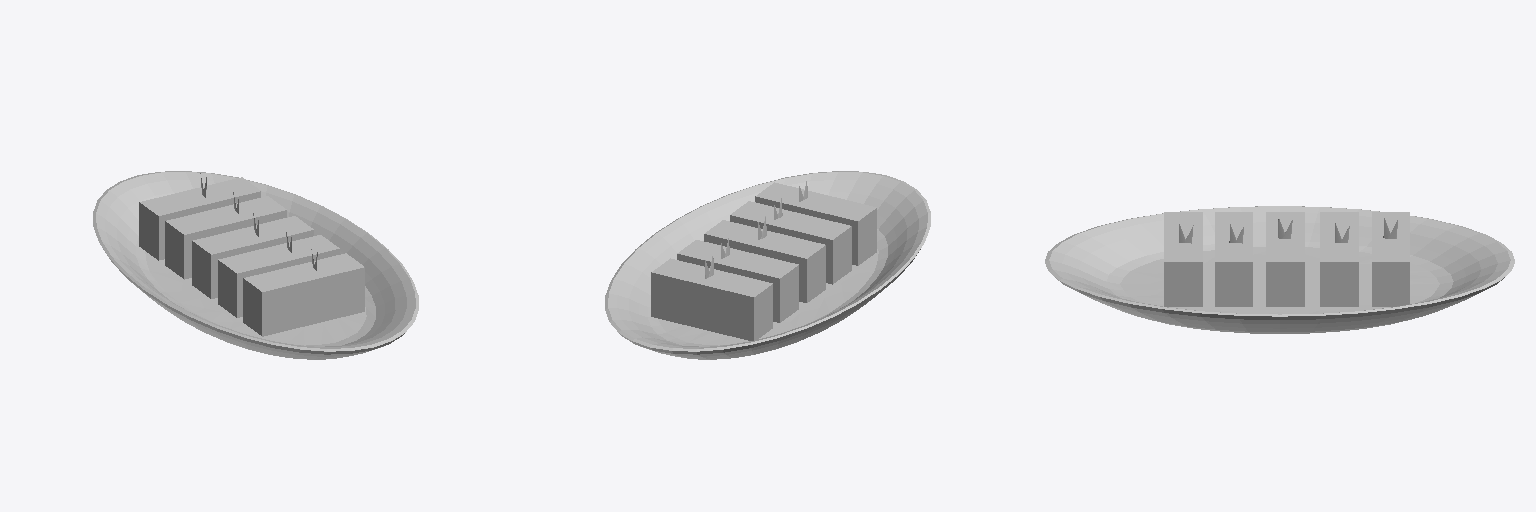
Rendered from kue karitsolo.obj.
The picture shows the model from 3 angles: view 1: azimuth 30°, elevation 25°; view 2: azimuth 150°, elevation 25°; view 3: azimuth 270°, elevation 25°; orthographic projection.
Visible parts, largest first — view 1: Cylinder, Cube.004, Cube.001, Cube.002, Cube, Cube.003; view 2: Cylinder, Cube, Cube.002, Cube.003, Cube.001, Cube.004; view 3: Cylinder, Cube.004, Cube.001, Cube.002, Cube.003, Cube.
Boxes of the visible parts, x1=… form: Cylinder: x1=93, y1=171, x2=418, y2=359; Cube.004: x1=243, y1=253, x2=364, y2=336; Cube.001: x1=165, y1=196, x2=286, y2=279; Cube.002: x1=192, y1=216, x2=313, y2=298; Cube: x1=139, y1=177, x2=260, y2=260; Cube.003: x1=218, y1=235, x2=339, y2=317; Cylinder: x1=605, y1=171, x2=930, y2=359; Cube: x1=651, y1=258, x2=772, y2=340; Cube.002: x1=704, y1=220, x2=825, y2=302; Cube.003: x1=730, y1=201, x2=851, y2=284; Cube.001: x1=677, y1=240, x2=798, y2=322; Cube.004: x1=755, y1=182, x2=876, y2=265; Cylinder: x1=1045, y1=206, x2=1514, y2=333; Cube.004: x1=1164, y1=212, x2=1202, y2=306; Cube.001: x1=1320, y1=212, x2=1358, y2=306; Cube.002: x1=1266, y1=212, x2=1304, y2=306; Cube.003: x1=1215, y1=212, x2=1252, y2=306; Cube: x1=1372, y1=212, x2=1409, y2=306.
Bounding box in the file's own units: 1.64 × 0.564 × 2.95.